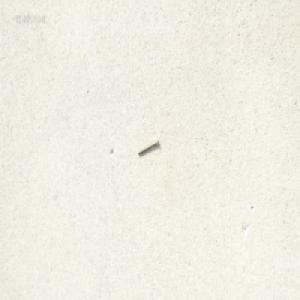Bolt: (137, 138, 159, 156)
